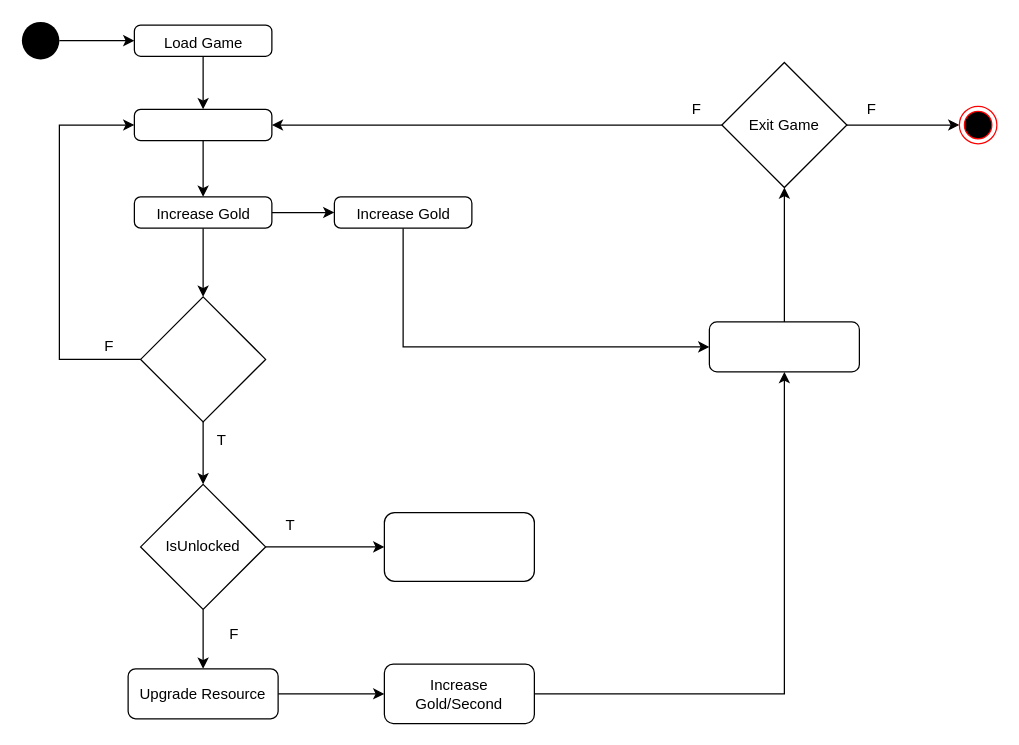
This 1019x745 diagram has some shape labels left out. Here are the shapes that lost their labels. From the top down, the centre of each, then its label:
At point (202, 124): "Tap Coin".
At point (202, 359): "Gold >= Cost".
At point (783, 346): "Save".
At point (458, 546): "Unlock Resource & Unlock Achievement".
